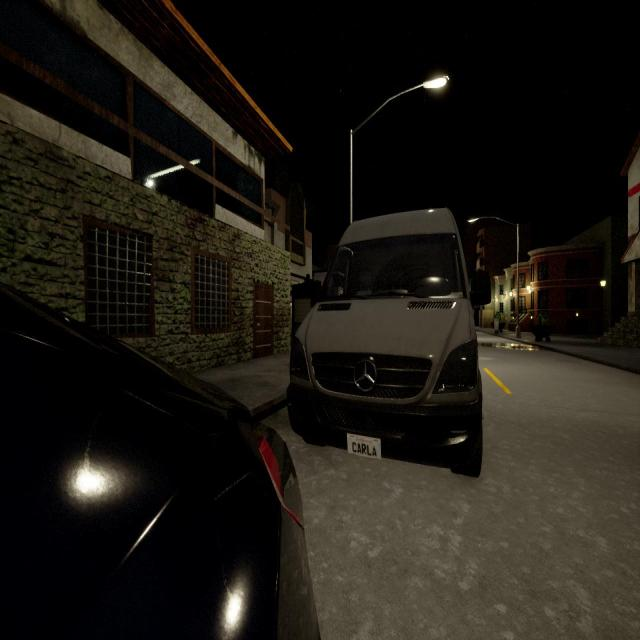Vehicle: (0, 281, 328, 640), (289, 210, 493, 477)
